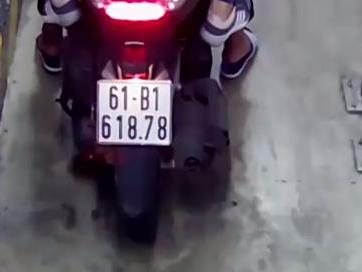num_plate: (97, 79, 173, 147)
